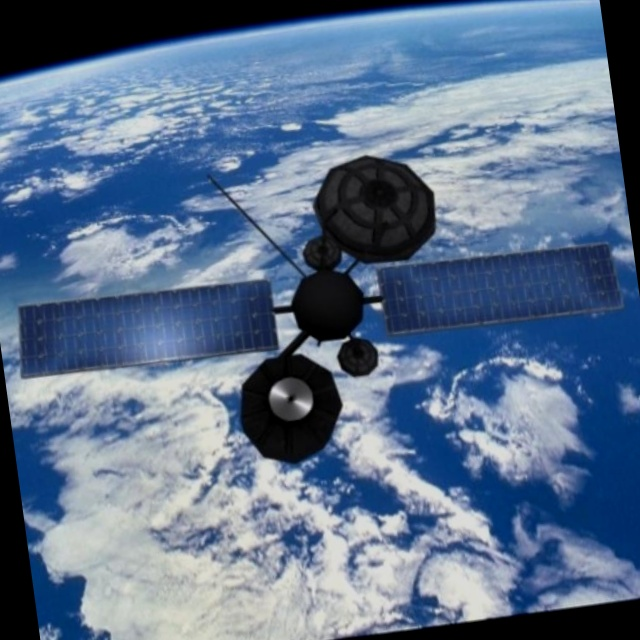medium_debris: (0, 118, 639, 510)
